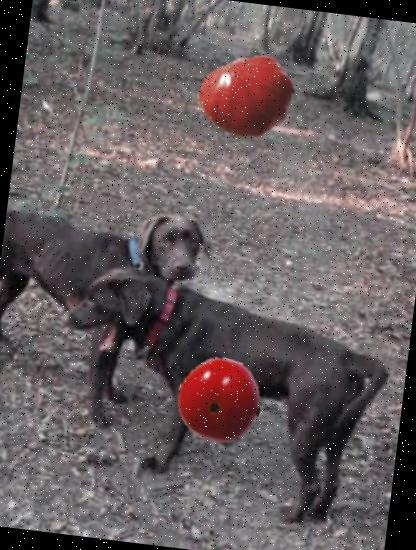Tomato: (192, 42, 300, 150), (172, 354, 266, 448)
